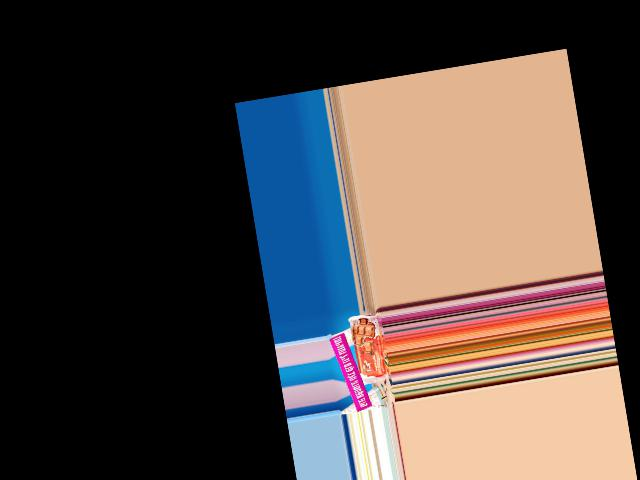chocolate: (346, 310, 389, 387)
